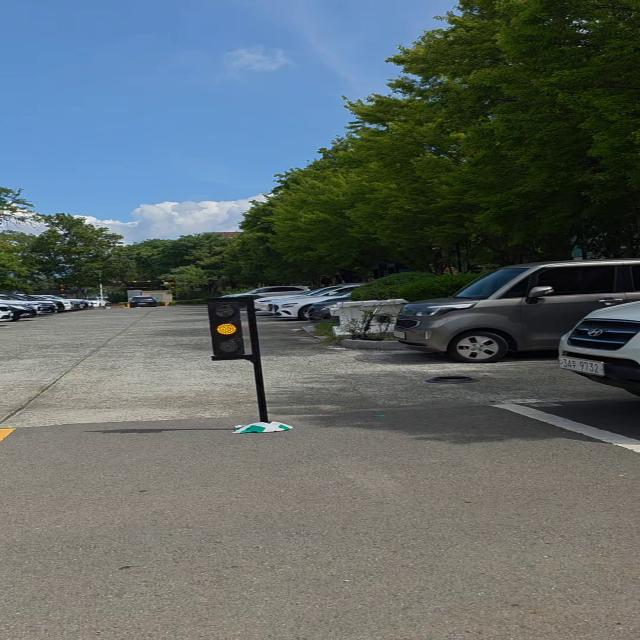yellow: (0, 0, 481, 360)
